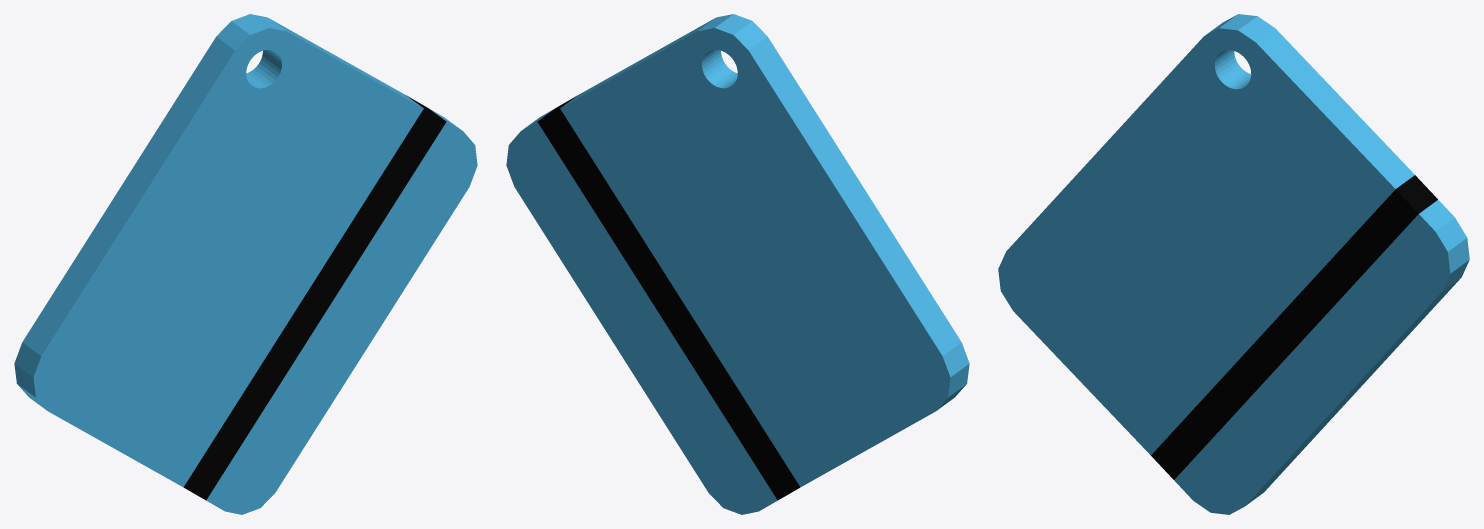
The model's file is KeyCard.fbx.
3 views of the same model, side by side, from view 1: azimuth 30°, elevation 25°; view 2: azimuth 150°, elevation 25°; view 3: azimuth 330°, elevation 25° (orthographic).
Visible parts, largest first — view 1: Cube; view 2: Cube; view 3: Cube.
Part boxes in pixels (left/top/right/bottom): Cube: left=14, top=14, right=477, bottom=514; Cube: left=506, top=14, right=969, bottom=514; Cube: left=998, top=14, right=1469, bottom=514.
Size of the model in its own units: 18.66 by 19.29 by 1.39.
